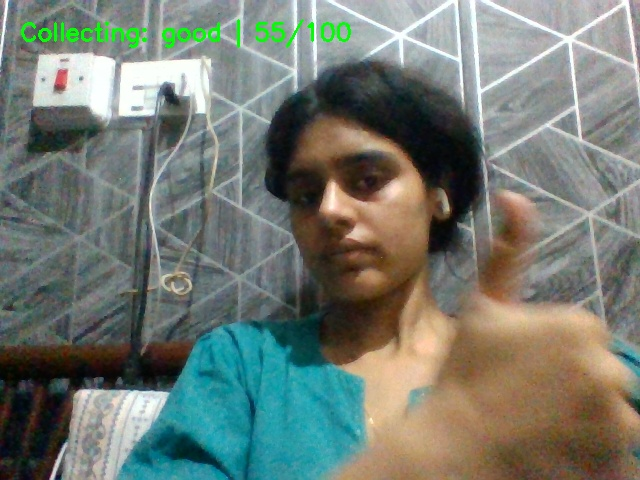good: (427, 176, 640, 480)
